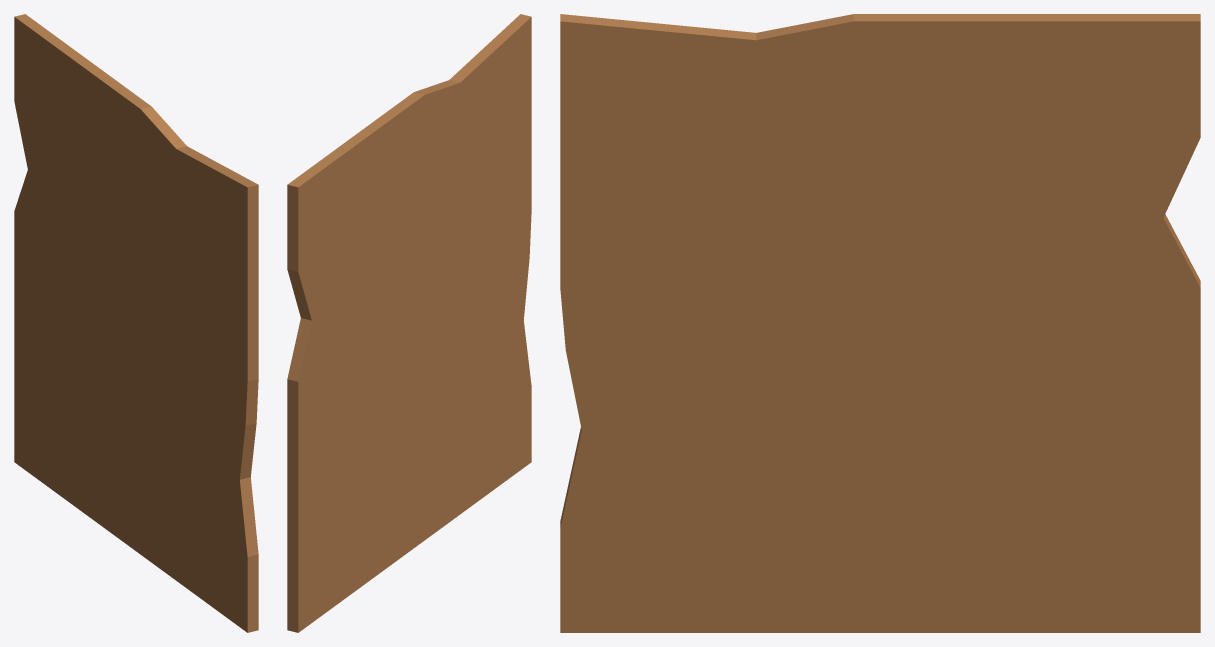
Rendered from TablaMenu.fbx.
The picture shows the model from 3 angles, left to right: view 1: azimuth 30°, elevation 25°; view 2: azimuth 150°, elevation 25°; view 3: azimuth 270°, elevation 25°; orthographic projection. The views are drawn at different scales.
Visible parts, largest first — view 1: Cube; view 2: Cube; view 3: Cube.
Part boxes in pixels (bbox=[...]): Cube: bbox=[14, 14, 258, 632]; Cube: bbox=[287, 14, 531, 632]; Cube: bbox=[560, 14, 1200, 632].
Size of the model in its own units: 48.02 by 1852 by 1757.
